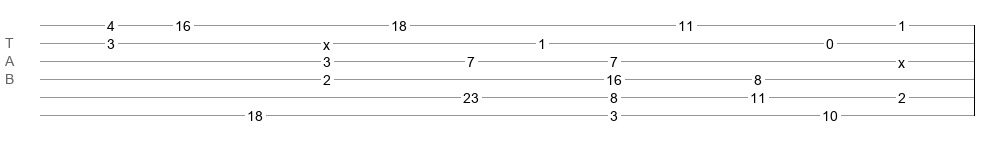0: (826, 36, 834, 46)
1: (538, 36, 546, 46), (898, 18, 906, 28)
10: (822, 108, 838, 118)
11: (678, 18, 694, 28), (750, 90, 766, 100)
16: (175, 18, 191, 28), (606, 72, 622, 82)
18: (247, 108, 263, 118), (391, 18, 407, 28)
2: (323, 72, 331, 82), (898, 90, 906, 100)
23: (463, 90, 479, 100)
3: (107, 36, 115, 46), (323, 54, 331, 64), (610, 108, 618, 118)
4: (107, 18, 115, 28)
7: (467, 54, 475, 64), (610, 54, 618, 64)
8: (610, 90, 618, 100), (754, 72, 762, 82)
x: (323, 37, 330, 45), (898, 55, 905, 63)
